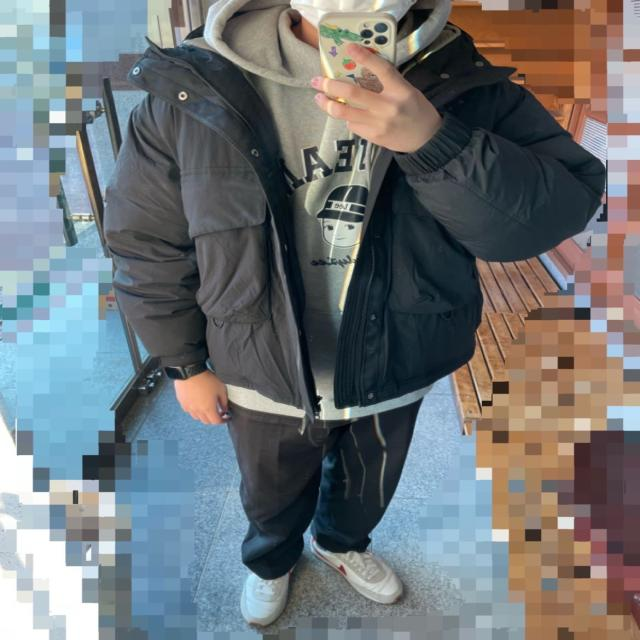denimpants: (214, 384, 422, 581)
hoodies: (198, 0, 463, 419)
padding: (105, 19, 616, 418)
